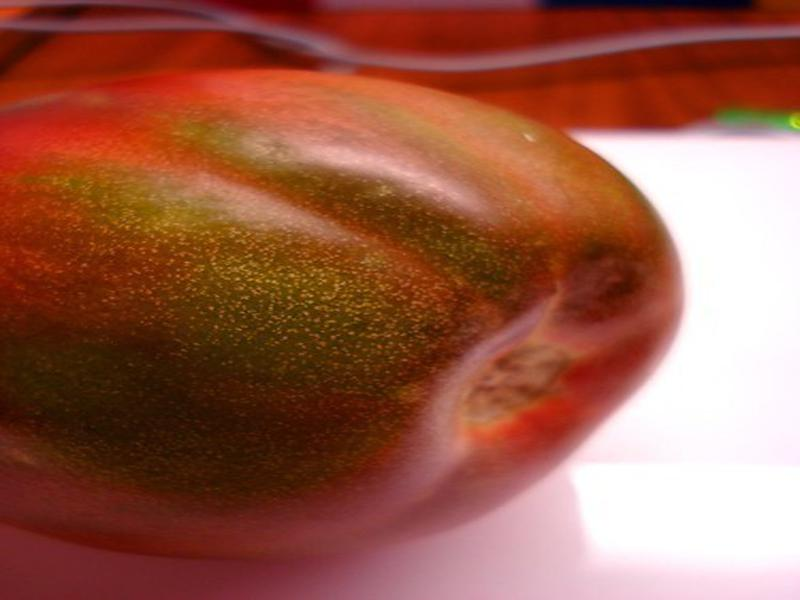Tomato: (2, 67, 681, 558)
